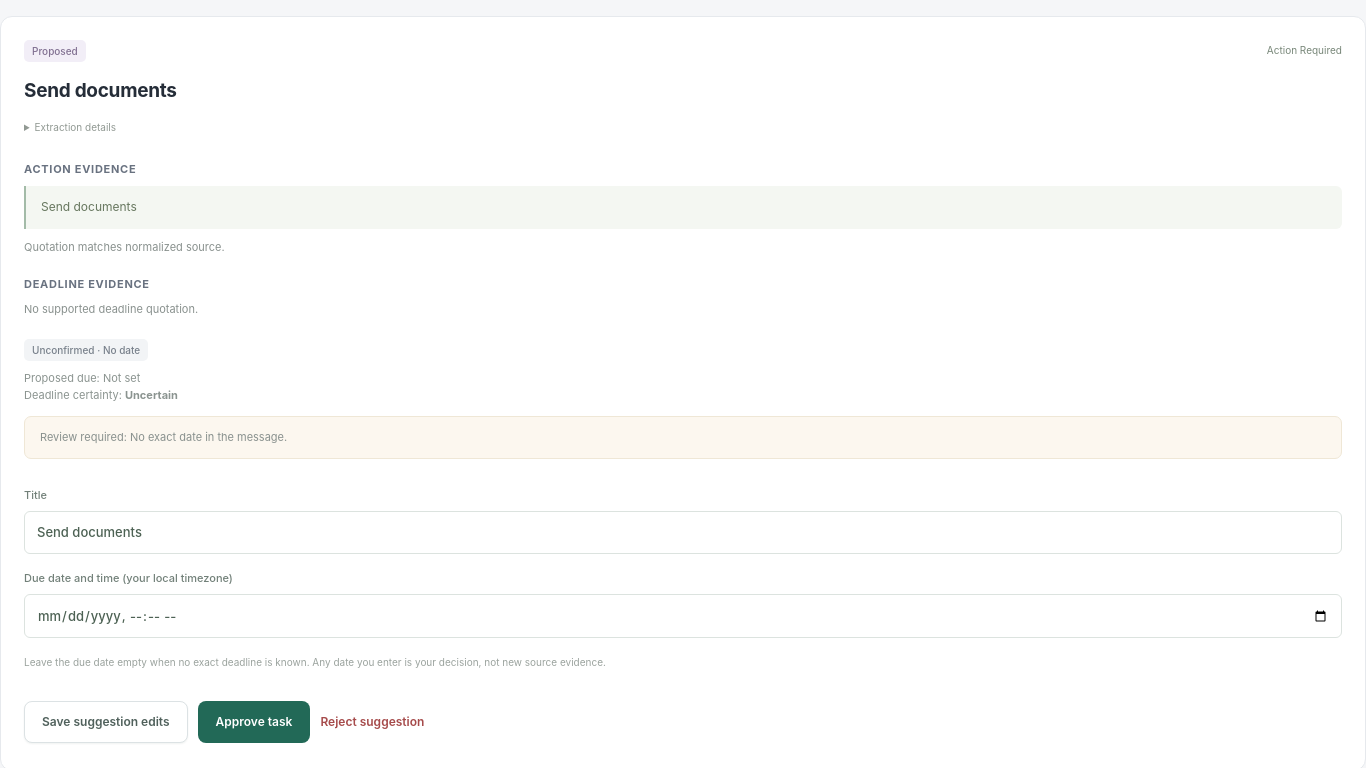
Test case: P0 browser interactions › sends the observed version for Reject suggestion and explains conflicts
The width and height of the screenshot is (1366, 768).
What coordinates should you click on to do the following:
click the button "Reject suggestion"
I would click on:
 (372, 722)
Its box is [320,705,424,739].
(page scrolled)
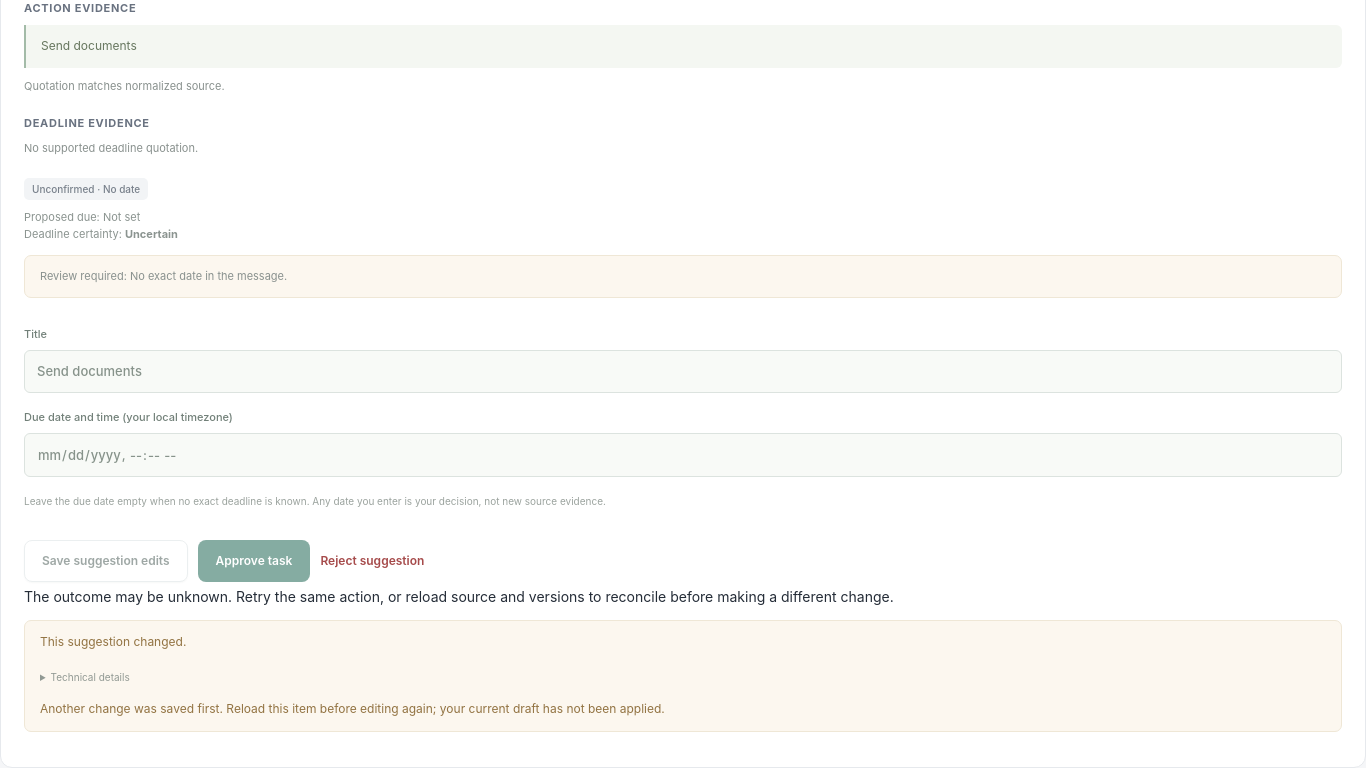
Check: the text "Another change was saved first" is shown, box [40,701,665,716]
